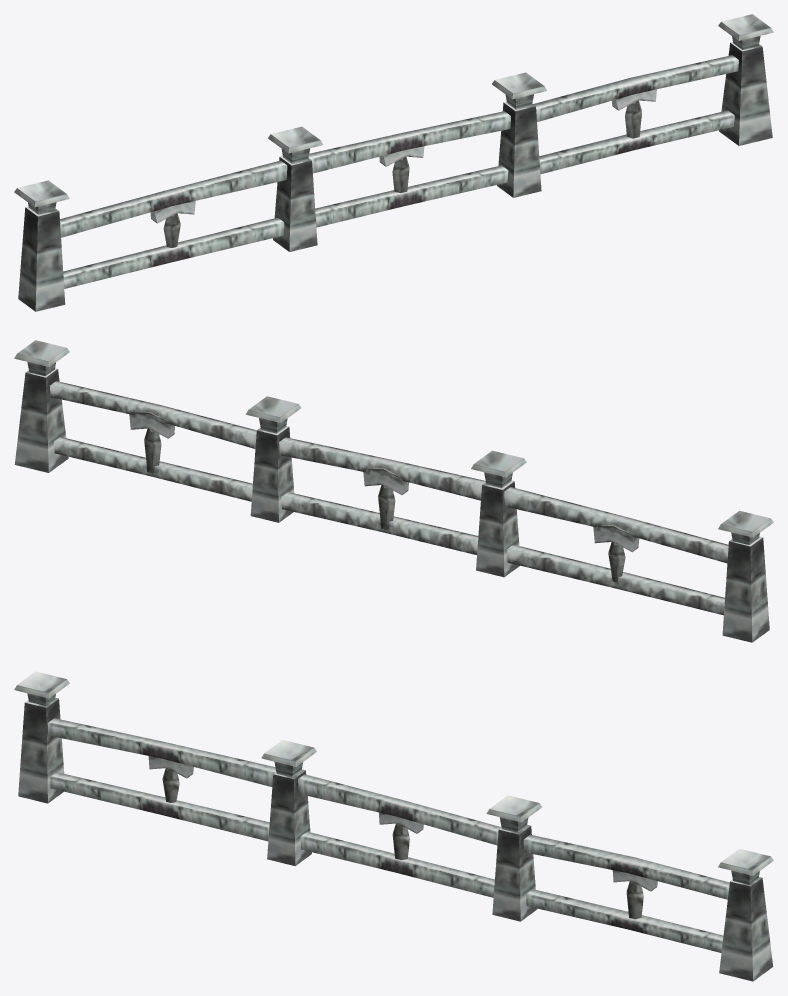
Rendered from S_Build_Snowland108.FBX.
The picture shows the model from 3 angles, top to bottom: view 1: azimuth 30°, elevation 25°; view 2: azimuth 150°, elevation 25°; view 3: azimuth 330°, elevation 25°; orthographic projection.
Visible parts, largest first — view 1: S_Build_Snowland108; view 2: S_Build_Snowland108; view 3: S_Build_Snowland108.
Boxes of the visible parts, box(x1,y1,x2,y2) form: S_Build_Snowland108: box(14, 14, 773, 311); S_Build_Snowland108: box(14, 340, 773, 642); S_Build_Snowland108: box(14, 671, 773, 981).
Bounding box in the file's own units: 1434 × 83.35 × 211.
